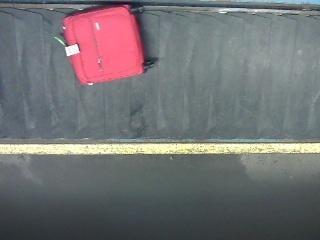Suitcase: (61, 3, 162, 89)
